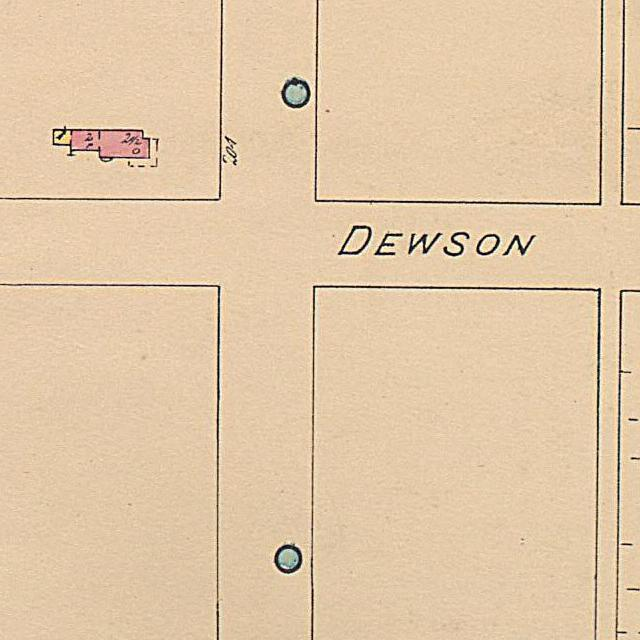building-footprints: (53, 130, 149, 161)
